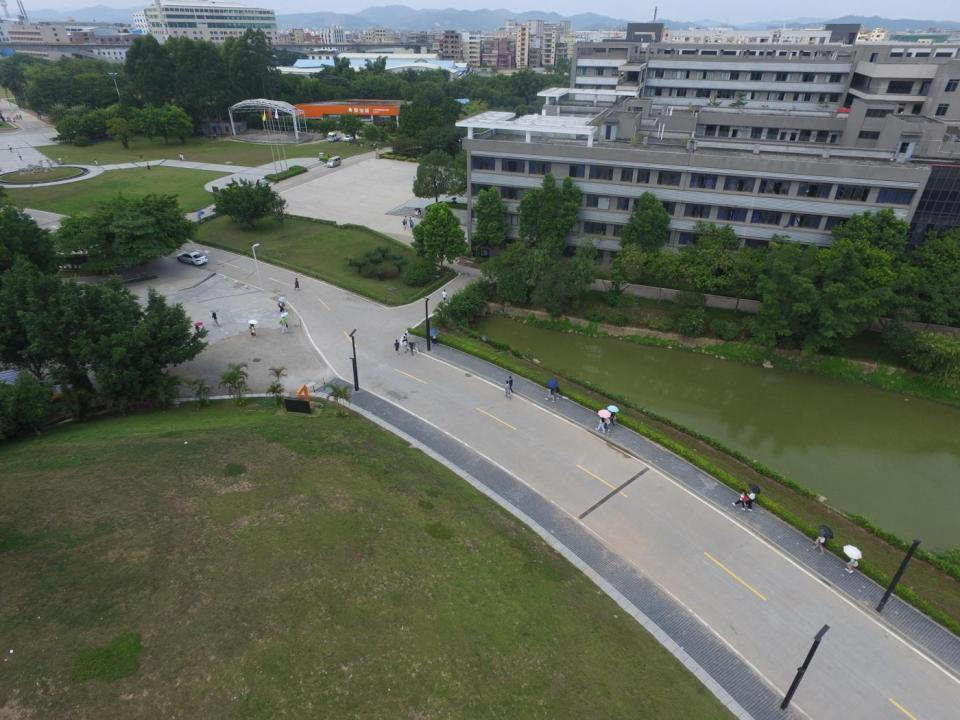car: (176, 250, 208, 266), (343, 134, 355, 142)
truck: (326, 130, 342, 142)
van: (326, 156, 343, 168)
